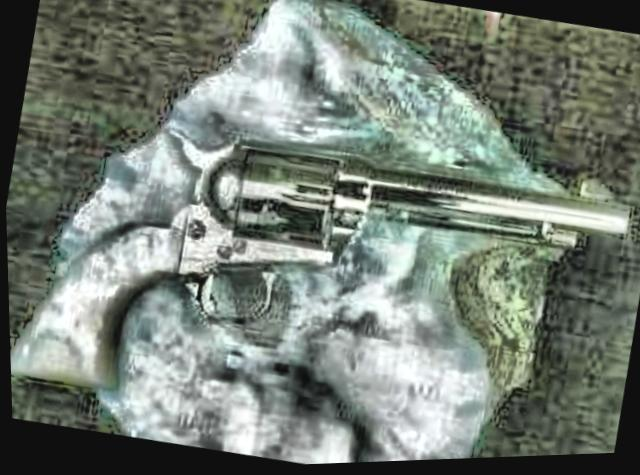pistol: (2, 73, 639, 475)
